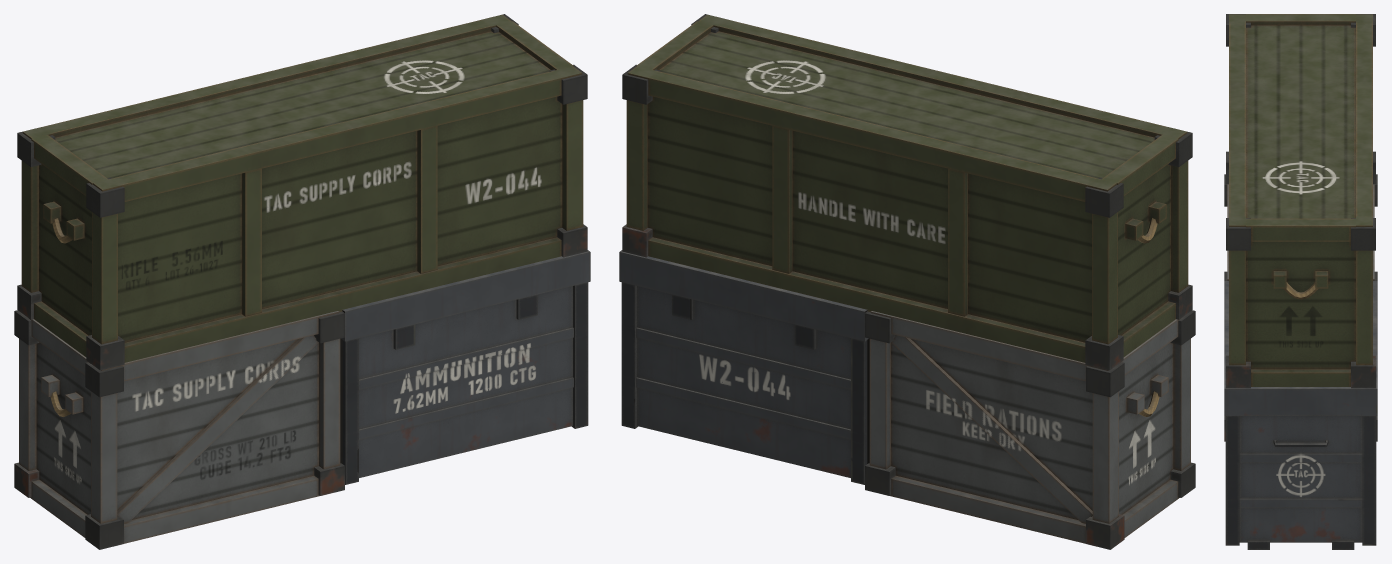
File: W2_Cover_Wall.fbx
3 renders of one model, left to right at view 1: azimuth 30°, elevation 25°; view 2: azimuth 150°, elevation 25°; view 3: azimuth 270°, elevation 25°, orthographic. The views are drawn at different scales.
Visible parts, largest first — view 1: W2_Cover_Wall__W2_LongCrate, W2_Cover_Wall__W2_SupplyCrate, W2_Cover_Wall__W2_SteelCrate; view 2: W2_Cover_Wall__W2_LongCrate, W2_Cover_Wall__W2_SupplyCrate, W2_Cover_Wall__W2_SteelCrate; view 3: W2_Cover_Wall__W2_LongCrate, W2_Cover_Wall__W2_SteelCrate, W2_Cover_Wall__W2_SupplyCrate.
Boxes of the visible parts, x1,y1,x2,y2 form: W2_Cover_Wall__W2_LongCrate: (17,14,587,370); W2_Cover_Wall__W2_SupplyCrate: (14,310,344,549); W2_Cover_Wall__W2_SteelCrate: (341,250,590,484); W2_Cover_Wall__W2_LongCrate: (622,14,1192,370); W2_Cover_Wall__W2_SupplyCrate: (865,310,1195,549); W2_Cover_Wall__W2_SteelCrate: (619,250,868,484); W2_Cover_Wall__W2_LongCrate: (1226,14,1375,388); W2_Cover_Wall__W2_SteelCrate: (1224,281,1377,549); W2_Cover_Wall__W2_SupplyCrate: (1224,174,1377,441).
Bounding box in the file's own units: 1000 × 697 × 300.
Materials: 2 (2 with a texture image).
